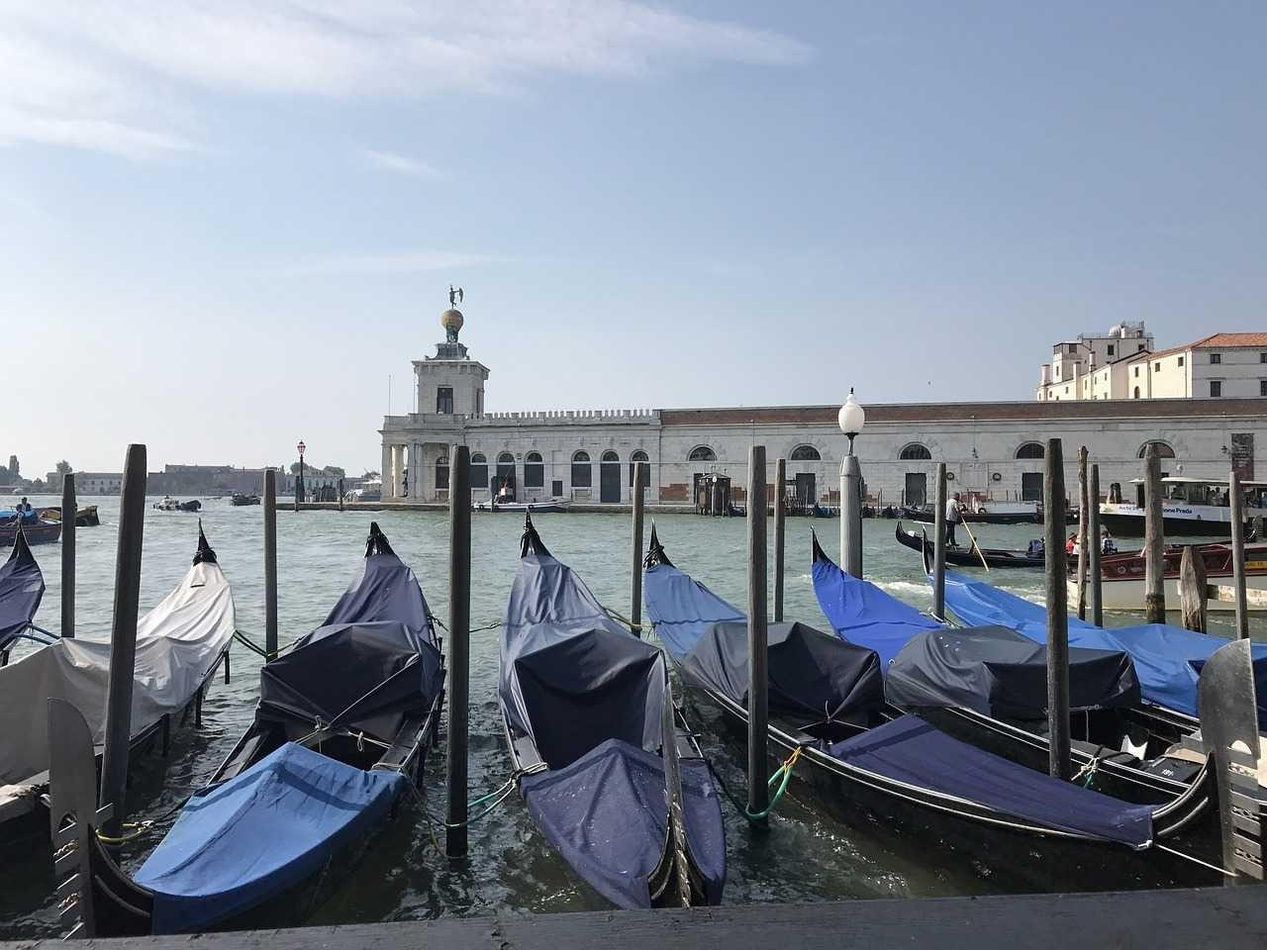kayak: (636, 475, 1214, 861), (101, 522, 448, 930), (496, 510, 727, 908), (1, 468, 237, 805), (808, 525, 1146, 748), (638, 448, 888, 744), (773, 708, 1213, 854), (923, 565, 1249, 725), (1197, 639, 1267, 883), (1078, 541, 1266, 613), (1098, 475, 1260, 542), (897, 519, 1053, 568), (0, 526, 47, 653), (949, 495, 1040, 522), (0, 508, 62, 543), (158, 498, 202, 512), (74, 504, 100, 526)
